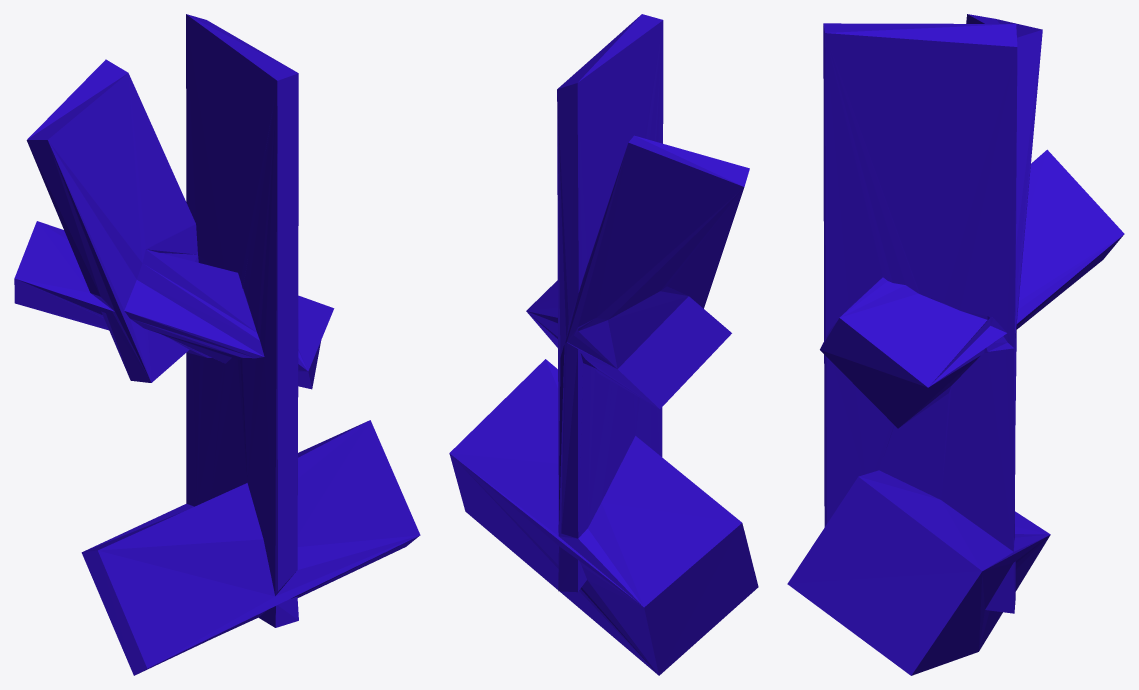
3 views of the same model, side by side, from view 1: azimuth 30°, elevation 25°; view 2: azimuth 150°, elevation 25°; view 3: azimuth 270°, elevation 25° (orthographic). The views are drawn at different scales.
Visible parts, largest first — view 1: 251_Cube.1028; view 2: 251_Cube.1028; view 3: 251_Cube.1028.
Part boxes in pixels (x1,y1,x2,y2): 251_Cube.1028: [14, 14, 420, 675]; 251_Cube.1028: [449, 14, 758, 675]; 251_Cube.1028: [787, 14, 1124, 675].
Bounding box in the file's own units: 7.77 × 13.86 × 6.37.
